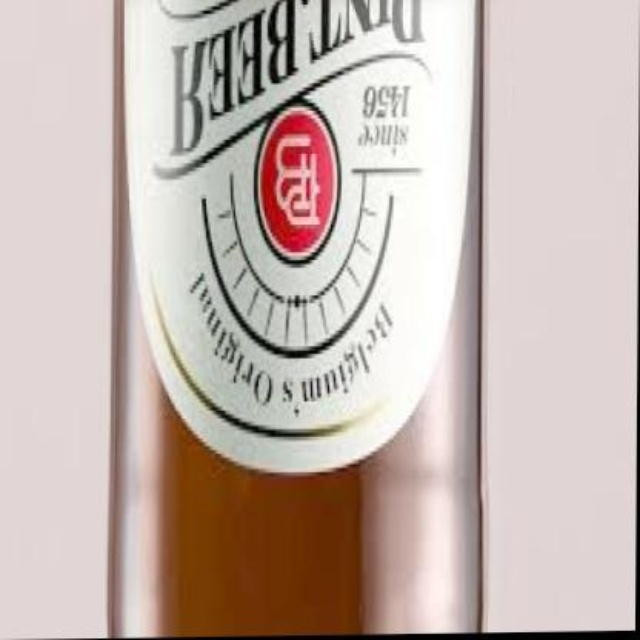trash: (114, 0, 478, 634)
